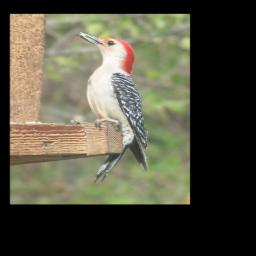Woodpecker: (74, 31, 148, 185)
